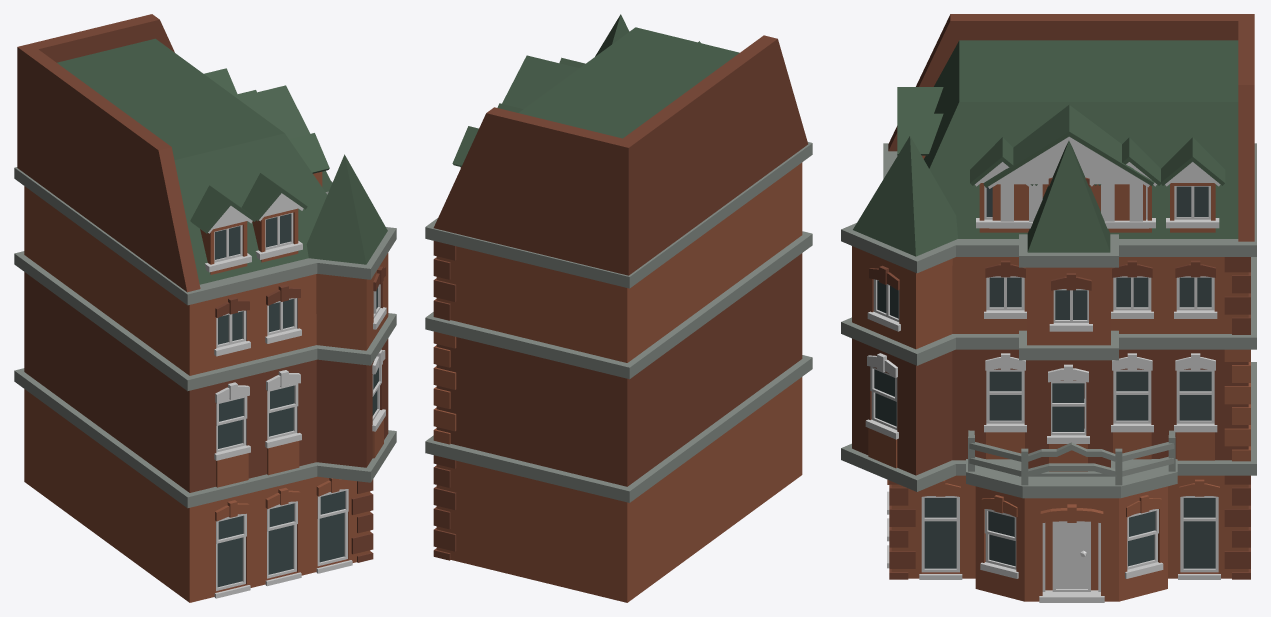
File: House-1-4.glb
The picture shows the model from 3 angles, left to right: view 1: azimuth 30°, elevation 25°; view 2: azimuth 150°, elevation 25°; view 3: azimuth 270°, elevation 25°; orthographic projection. The views are drawn at different scales.
Parts seen in each view (by area): view 1: Main-1-4, RoofWindowSide-1-4, RoofWindowBig-1-4, RoofWindowFront-1-4; view 2: Main-1-4, RoofWindowBig-1-4, RoofWindowFront-1-4; view 3: Main-1-4, DoorExtension-1-4, FrontExtension-1-4, RoofWindowBig-1-4, RoofWindowFront-1-4, RoofWindowSide-1-4.
Part boxes in pixels (x1,y1,x2,y2): Main-1-4: (14, 14, 396, 602); RoofWindowSide-1-4: (190, 173, 307, 274); RoofWindowBig-1-4: (236, 85, 310, 138); RoofWindowFront-1-4: (204, 68, 329, 186); Main-1-4: (425, 14, 812, 602); RoofWindowBig-1-4: (502, 55, 579, 108); RoofWindowFront-1-4: (452, 57, 585, 167); Main-1-4: (841, 14, 1256, 579); DoorExtension-1-4: (966, 430, 1177, 602); FrontExtension-1-4: (1019, 141, 1118, 476); RoofWindowBig-1-4: (983, 105, 1154, 232); RoofWindowFront-1-4: (970, 137, 1225, 232); RoofWindowSide-1-4: (897, 87, 943, 158).
Bounding box in the file's own units: 8.09 × 14.01 × 11.29.
Materials: 2 (2 with a texture image).
